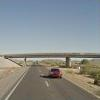Car: (45, 66, 70, 81)
